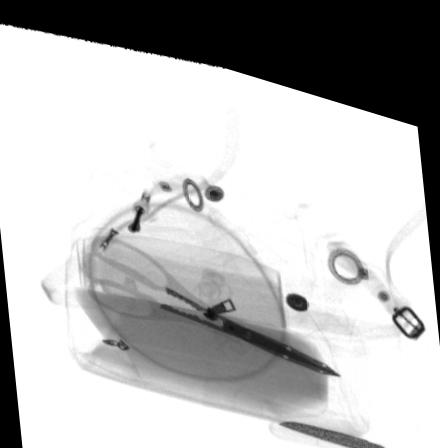Knife: (278, 402, 388, 434)
Scissors: (82, 228, 337, 355)
